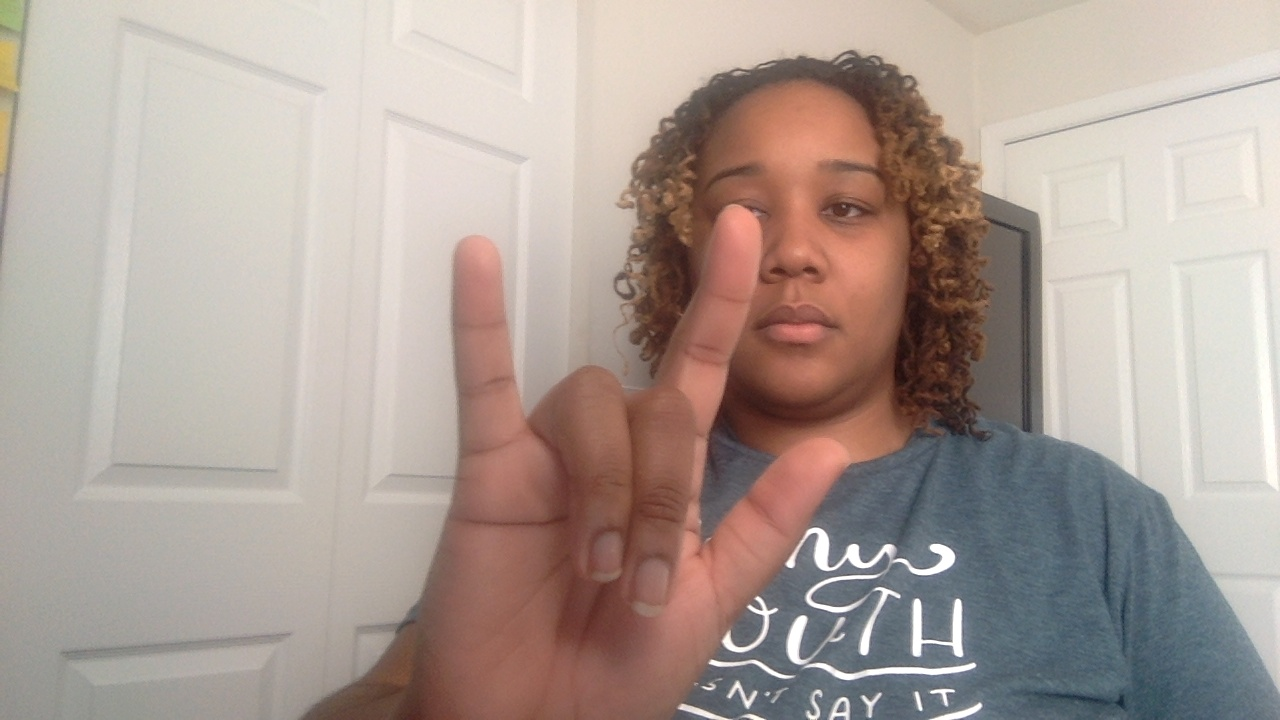i_love_you: (439, 208, 853, 720)
